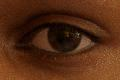eye: (48, 24, 82, 53)
